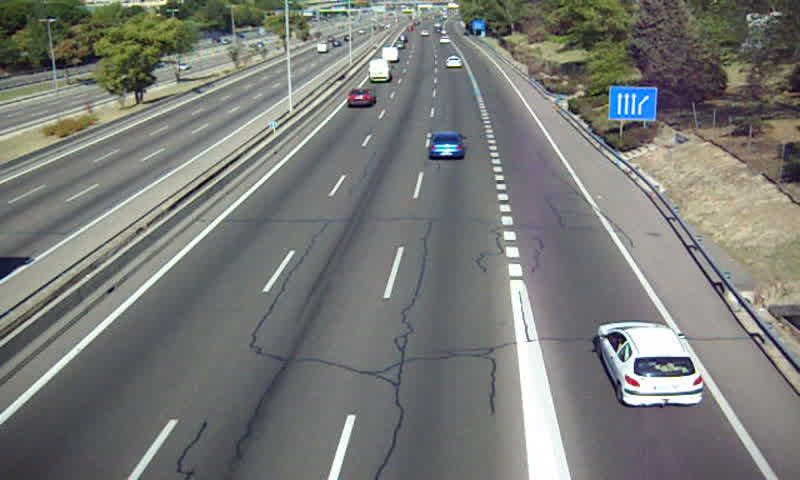car: (598, 321, 704, 408), (426, 130, 468, 160), (346, 87, 376, 107)
van: (367, 59, 392, 82), (382, 45, 399, 60)
